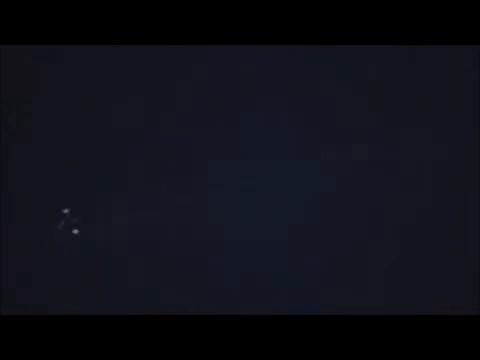Plane: (28, 197, 103, 246)
